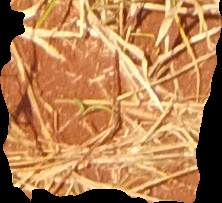soil: (2, 1, 222, 202)
